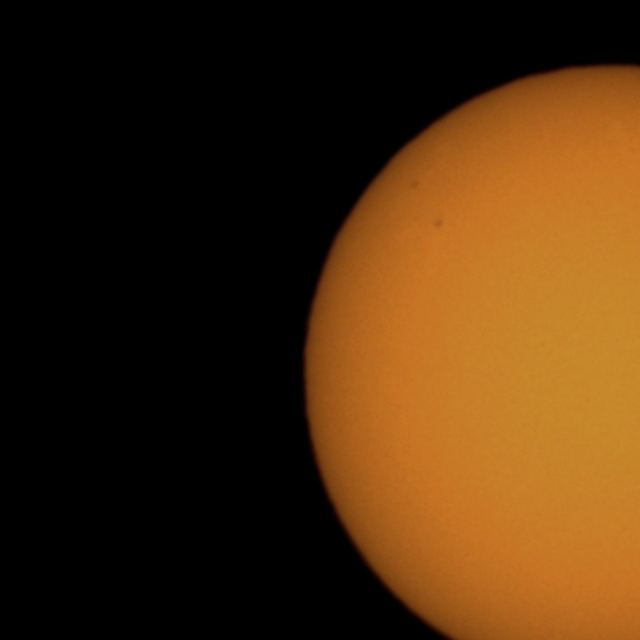sunspot: (432, 213, 445, 230)
